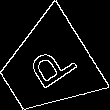P_SW: (17, 38, 77, 97)
